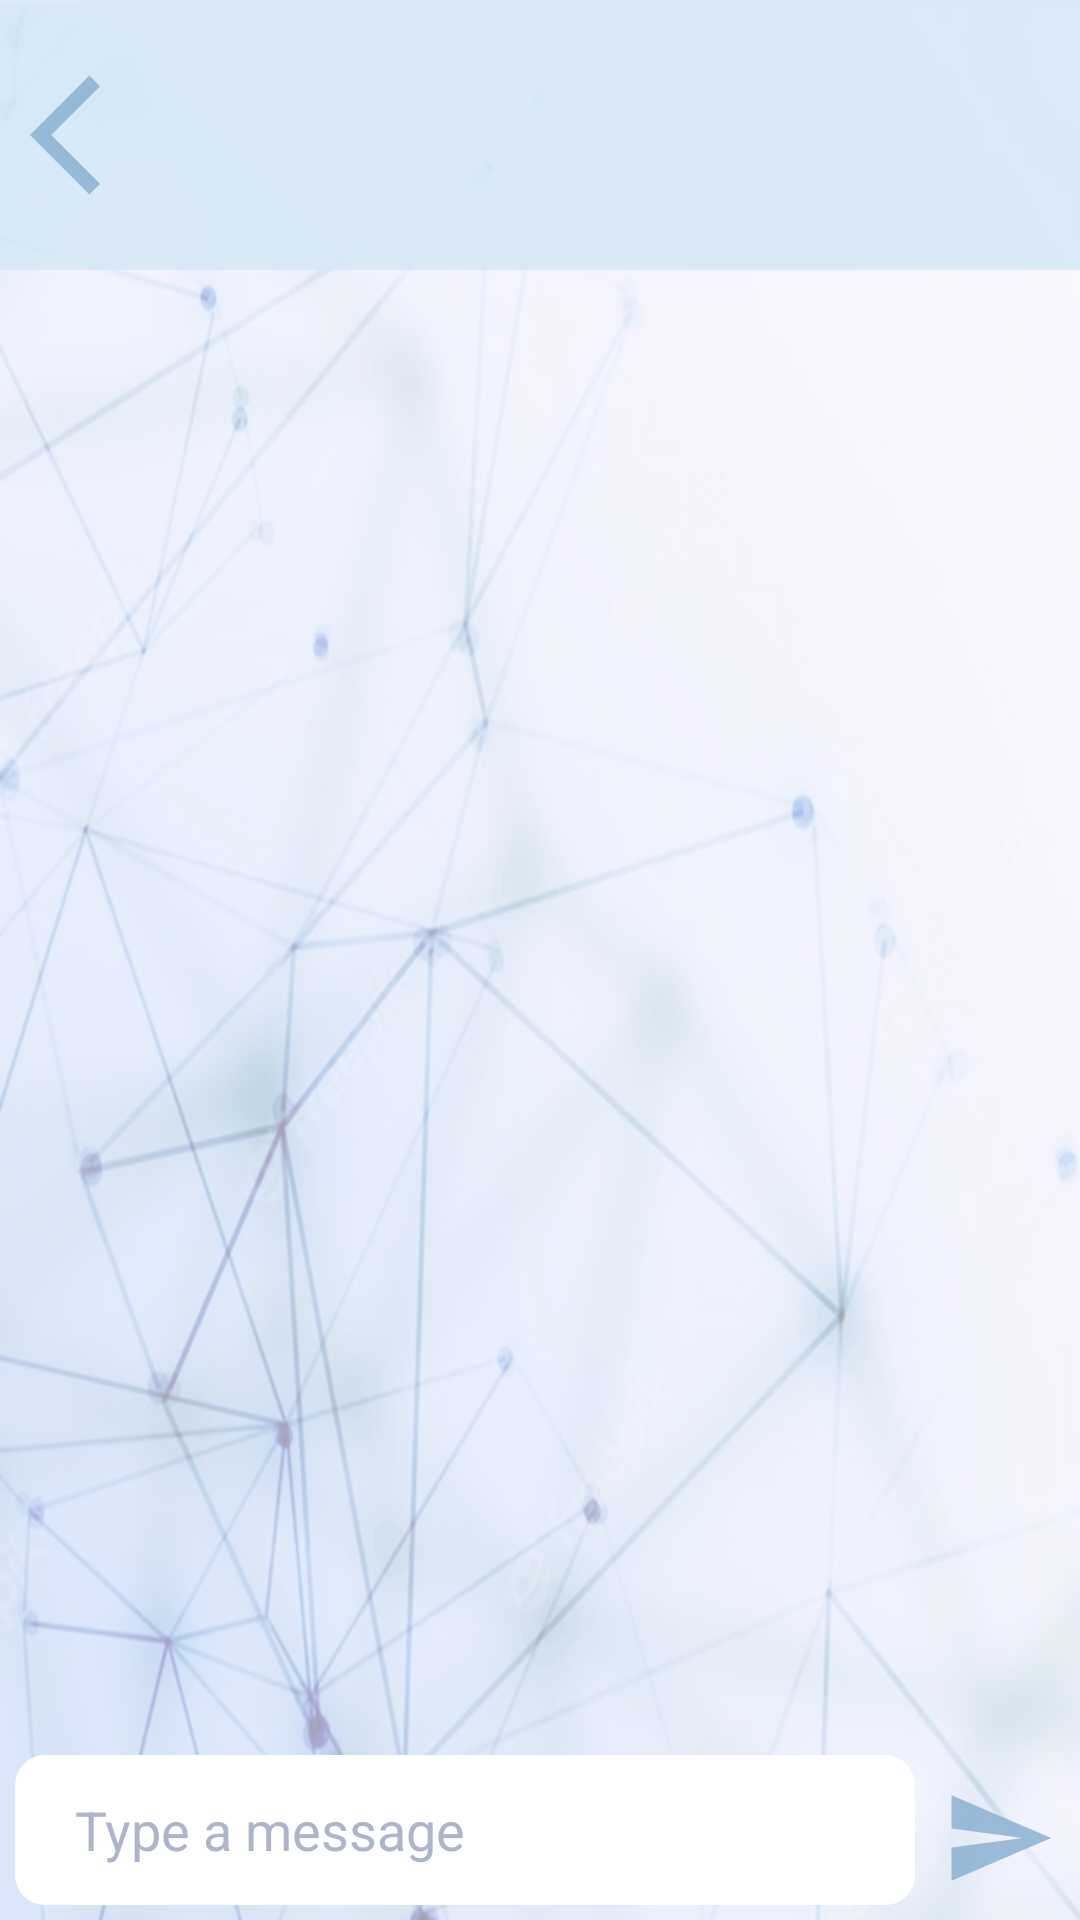

Icons on this 1080*1920 Android screen, each with its box as (x1, y1, x2, y2):
back button: (30, 76, 100, 194)
